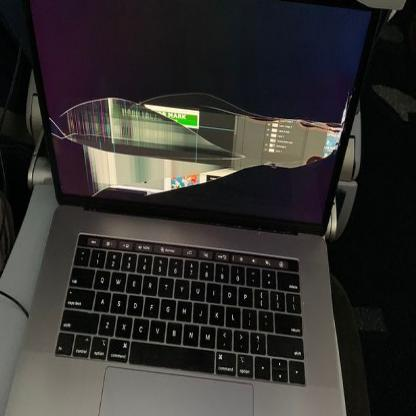crack: (40, 61, 362, 244)
